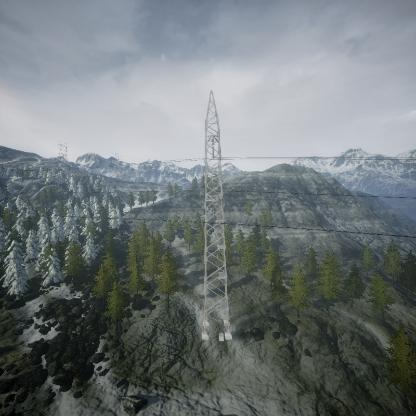tower: (195, 86, 229, 337)
